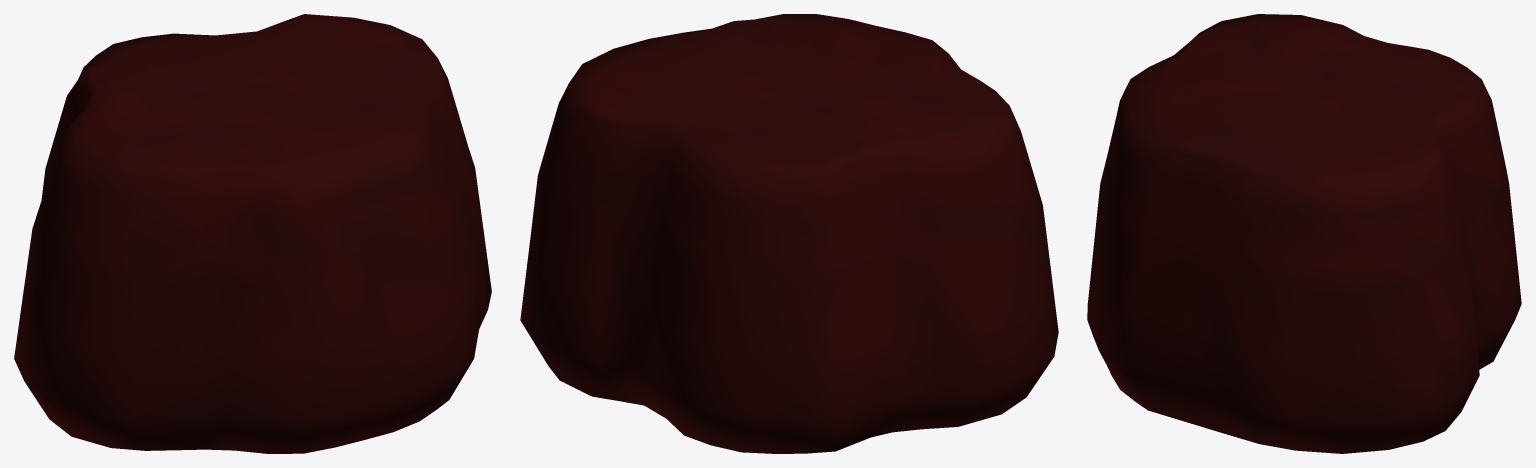
The model's file is geology-landforms-greenplateautiny_v1.fbx.
3 renders of one model, left to right at view 1: azimuth 30°, elevation 25°; view 2: azimuth 150°, elevation 25°; view 3: azimuth 270°, elevation 25°, orthographic. The views are drawn at different scales.
Visible parts, largest first — view 1: GreenPlateauTiny_v1; view 2: GreenPlateauTiny_v1; view 3: GreenPlateauTiny_v1.
Part boxes in pixels (x1,y1,x2,y2): GreenPlateauTiny_v1: [14, 14, 491, 453]; GreenPlateauTiny_v1: [520, 14, 1058, 453]; GreenPlateauTiny_v1: [1087, 14, 1521, 453].
Size of the model in its own units: 29.71 by 16.82 by 25.33.
